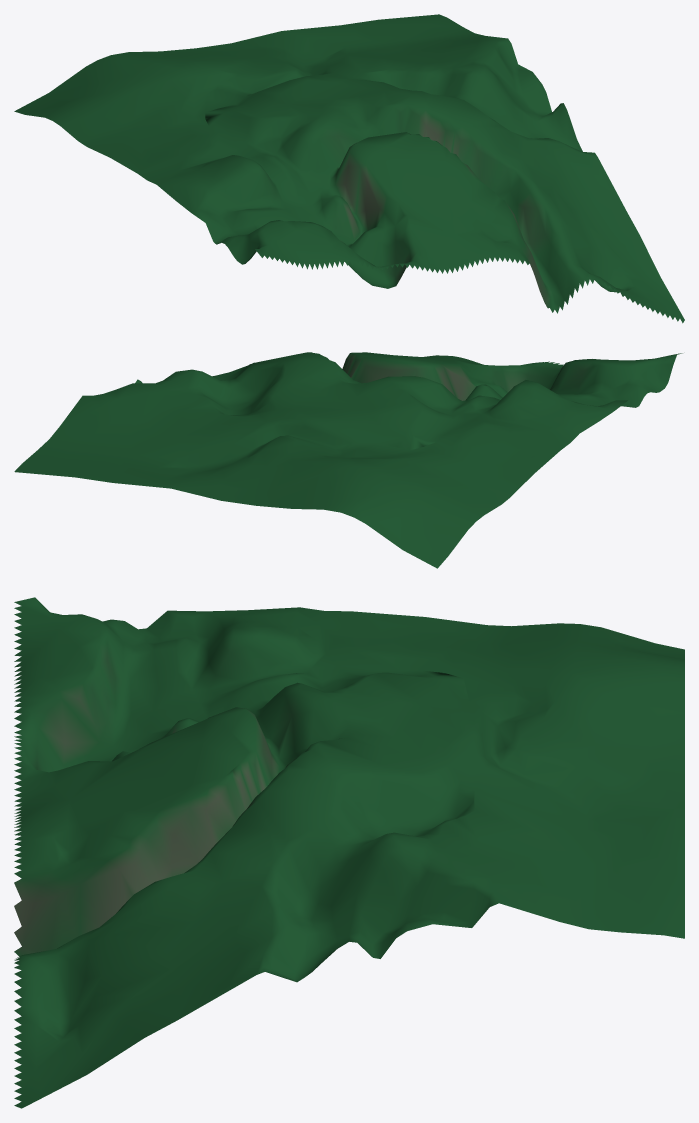
Rendered from payo_land_x0_ym2_lod2.glb.
3 views of the same model, one above another, from view 1: azimuth 30°, elevation 25°; view 2: azimuth 150°, elevation 25°; view 3: azimuth 270°, elevation 25° (orthographic). The views are drawn at different scales.
Visible parts, largest first — view 1: payo_land_x0_ym2; view 2: payo_land_x0_ym2; view 3: payo_land_x0_ym2.
Boxes of the visible parts, x1,y1,x2,y2 form: payo_land_x0_ym2: (14,14,684,323); payo_land_x0_ym2: (14,352,682,568); payo_land_x0_ym2: (14,597,684,1108).
Size of the model in its own units: 255 by 104 by 258.
